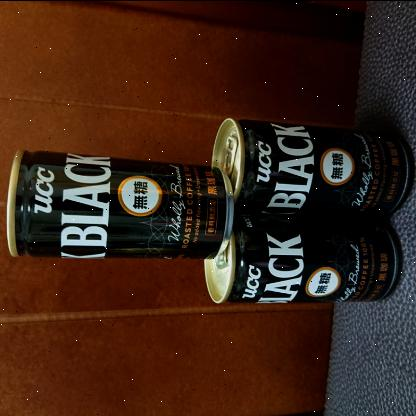Can: (8, 151, 232, 257), (212, 118, 410, 214), (204, 216, 398, 302)
